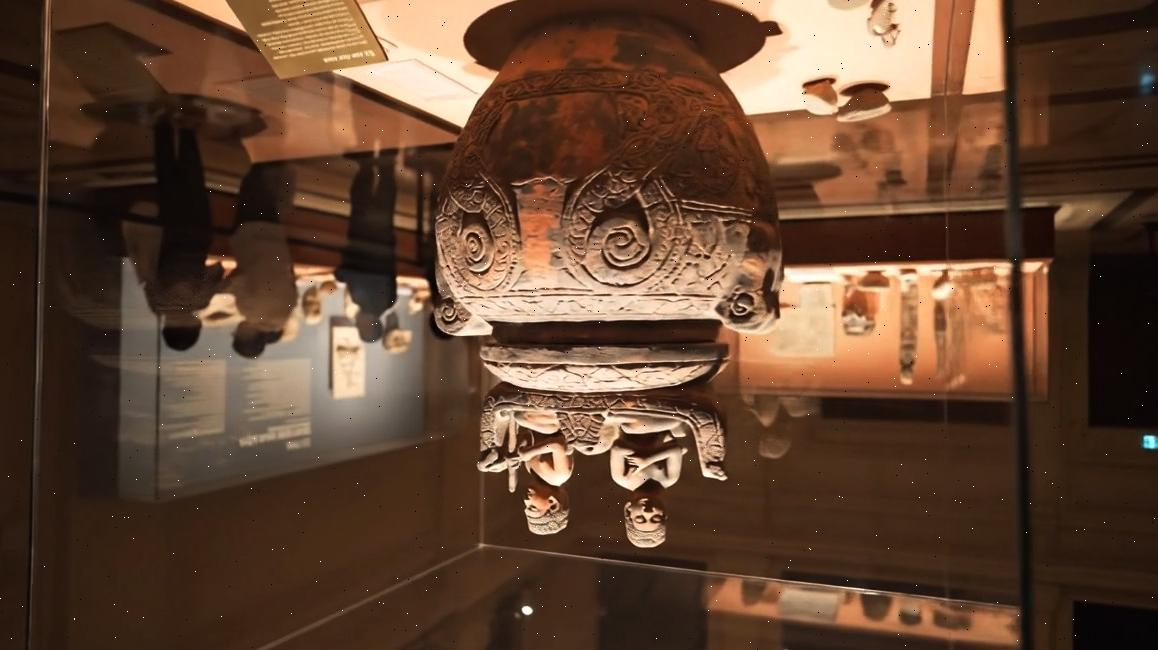manunggul_jar: (417, 7, 806, 550)
